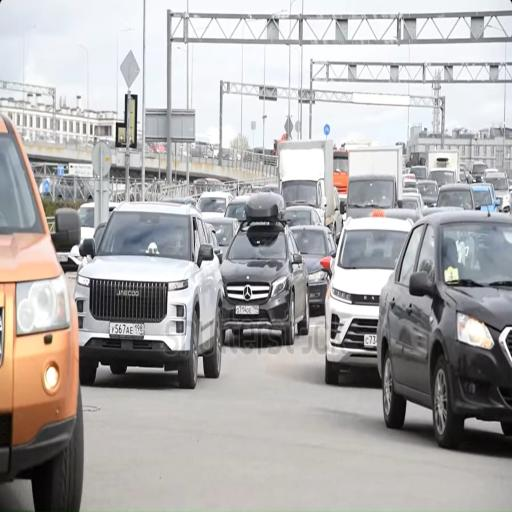License plates: (110, 323, 144, 338), (236, 305, 258, 315), (364, 335, 376, 347), (58, 254, 67, 262)
